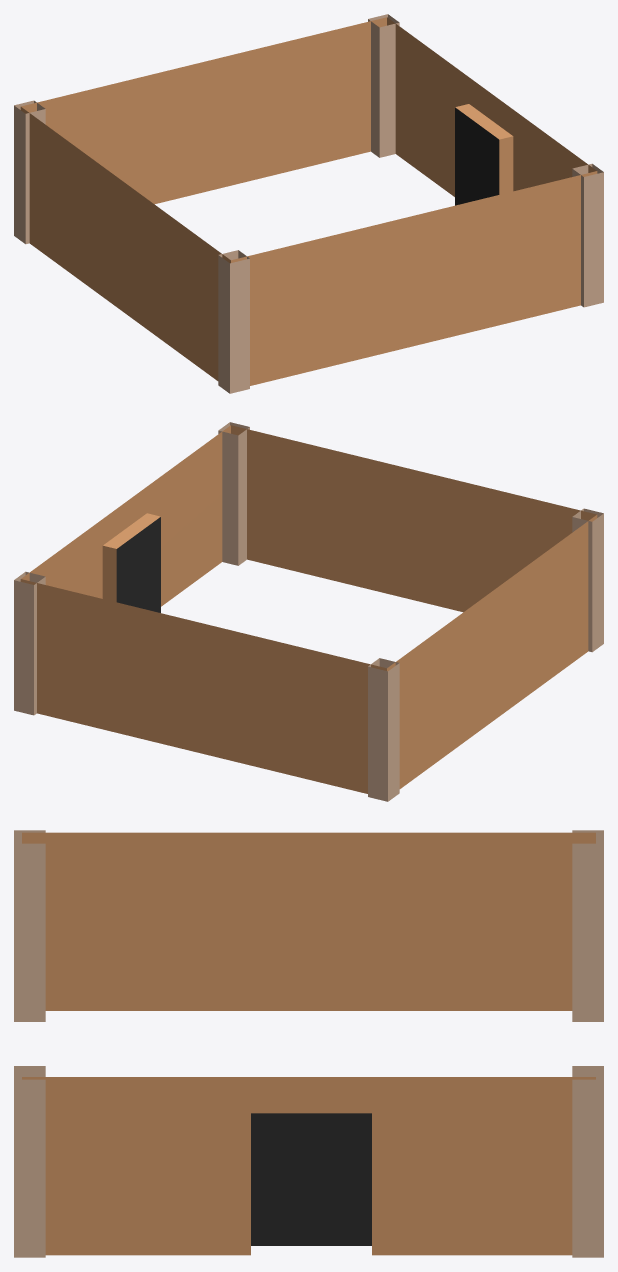
The model's file is SkyScraper2_Bottom_01.fbx.
The picture shows the model from 3 angles, top to bottom: view 1: azimuth 30°, elevation 25°; view 2: azimuth 150°, elevation 25°; view 3: azimuth 270°, elevation 25°; orthographic projection. The views are drawn at different scales.
Parts seen in each view (by area): view 1: SkyScraper2_Bottom; view 2: SkyScraper2_Bottom; view 3: SkyScraper2_Bottom.
Part boxes in pixels (x1=…): SkyScraper2_Bottom: x1=14, y1=14, x2=603, y2=393; SkyScraper2_Bottom: x1=14, y1=422, x2=603, y2=801; SkyScraper2_Bottom: x1=14, y1=830, x2=603, y2=1257.
Size of the model in its own units: 96 by 32.03 by 96.
